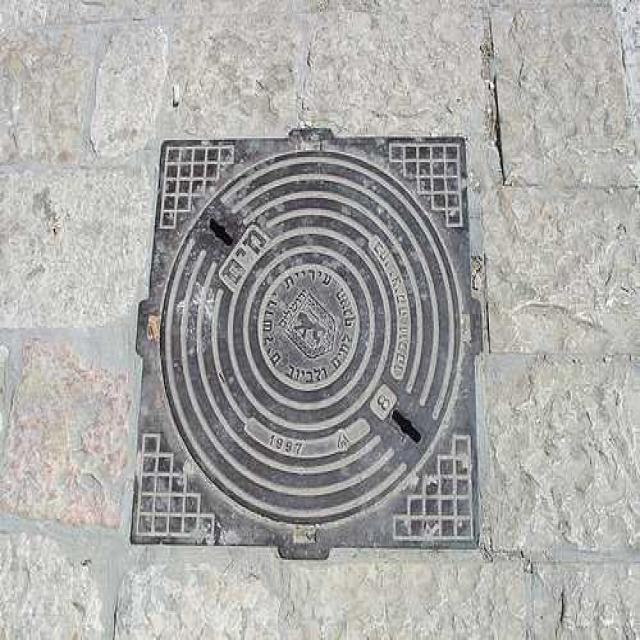manhole: (133, 128, 481, 558)
